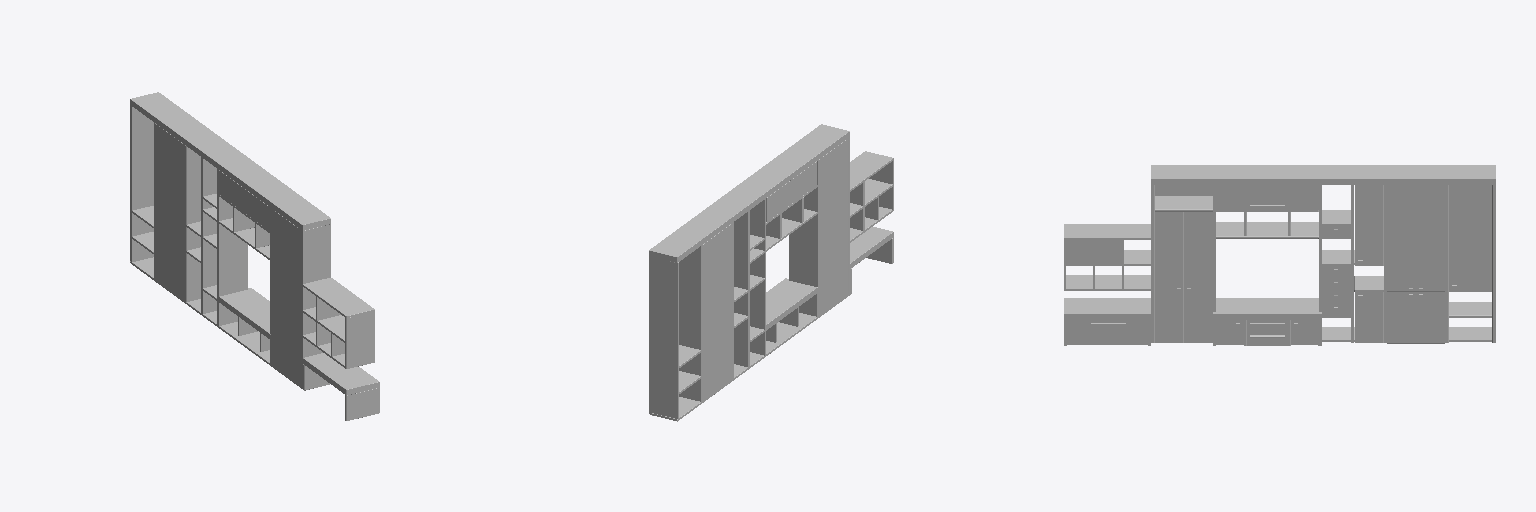
File: parete attrezzata.obj
3 renders of one model, left to right at view 1: azimuth 30°, elevation 25°; view 2: azimuth 150°, elevation 25°; view 3: azimuth 270°, elevation 25°, orthographic.
Parts seen in each view (by area): view 1: Box08, Box082, Box083, Box05, Box07, Box01, Box03, Box02, Box1476, Box56, Box15, Box51 (+4 smaller); view 2: Box08, Box05, Box082, Box083, Box04, Box06, Box02, Box01, Box15, Box09, Box1505, Box1476 (+3 smaller); view 3: Box08, Box48, Box10, Box11, Box38, Box37, Box1504, Box36, Box15, Box1477, Box1476, Box14 (+14 smaller).
Boxes of the visible parts, x1,y1,x2,y2 form: Box08: [130, 92, 330, 230]; Box082: [156, 124, 184, 302]; Box083: [272, 209, 300, 387]; Box05: [130, 105, 153, 261]; Box07: [301, 224, 330, 386]; Box01: [217, 169, 247, 325]; Box03: [185, 145, 200, 301]; Box02: [201, 157, 216, 313]; Box1476: [303, 353, 379, 395]; Box56: [345, 312, 374, 368]; Box15: [217, 288, 271, 340]; Box51: [303, 278, 374, 317]; Box08: [649, 124, 849, 262]; Box05: [649, 256, 678, 418]; Box082: [703, 224, 731, 402]; Box083: [819, 139, 847, 317]; Box04: [679, 245, 702, 401]; Box06: [789, 160, 818, 315]; Box02: [734, 211, 749, 367]; Box01: [750, 199, 765, 355]; Box15: [765, 278, 818, 330]; Box09: [651, 294, 849, 421]; Box1505: [766, 161, 816, 221]; Box1476: [850, 227, 893, 268]; Box08: [1151, 165, 1495, 184]; Box48: [1449, 185, 1491, 291]; Box10: [1155, 212, 1183, 342]; Box11: [1184, 212, 1212, 342]; Box38: [1416, 185, 1444, 291]; Box37: [1387, 185, 1415, 291]; Box1504: [1216, 185, 1318, 209]; Box36: [1355, 185, 1383, 265]; Box15: [1213, 298, 1321, 319]; Box1477: [1067, 320, 1147, 344]; Box1476: [1064, 298, 1150, 319]; Box14: [1216, 222, 1318, 238].
Bounding box in the file's own units: 494 × 2182 × 5209.